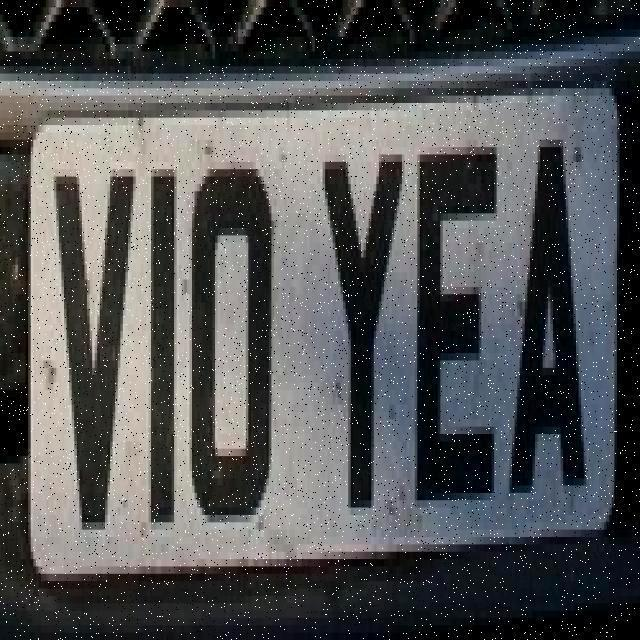LicensePlate: (11, 25, 630, 603)
